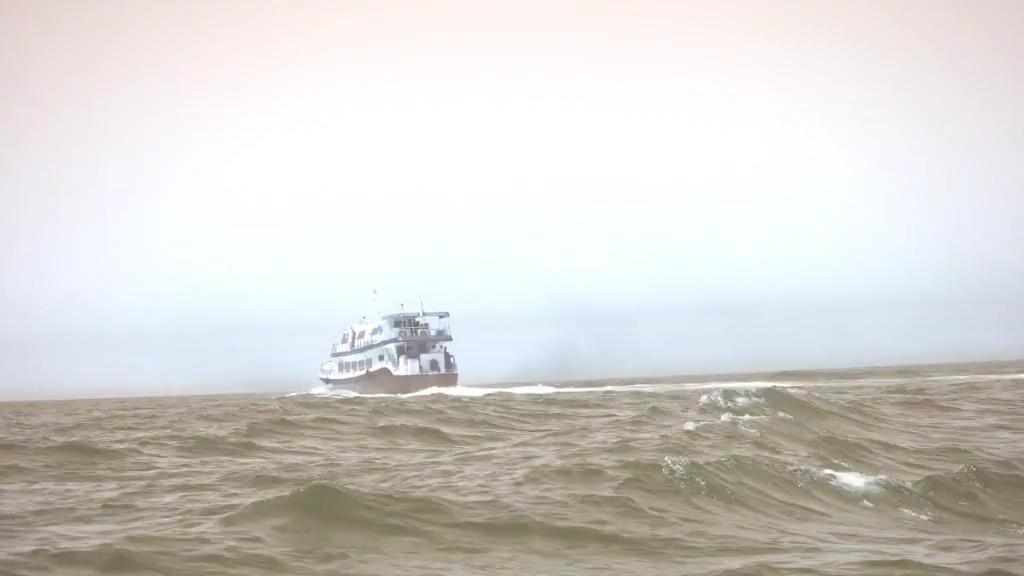PassengerShip: (310, 288, 464, 403)
